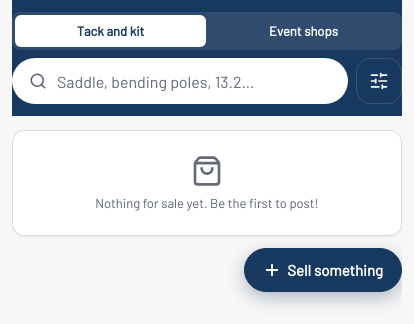
the shop › says so when no event shop has anything for sale
Click the button "Event shops".
click(304, 31)  # box [208,15,399,47]
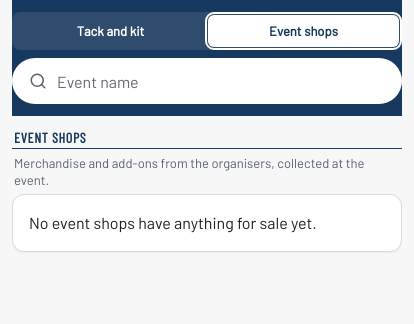
Expected: the text "No event shops have anything for sale yet." is shown, [12,194,402,252]
